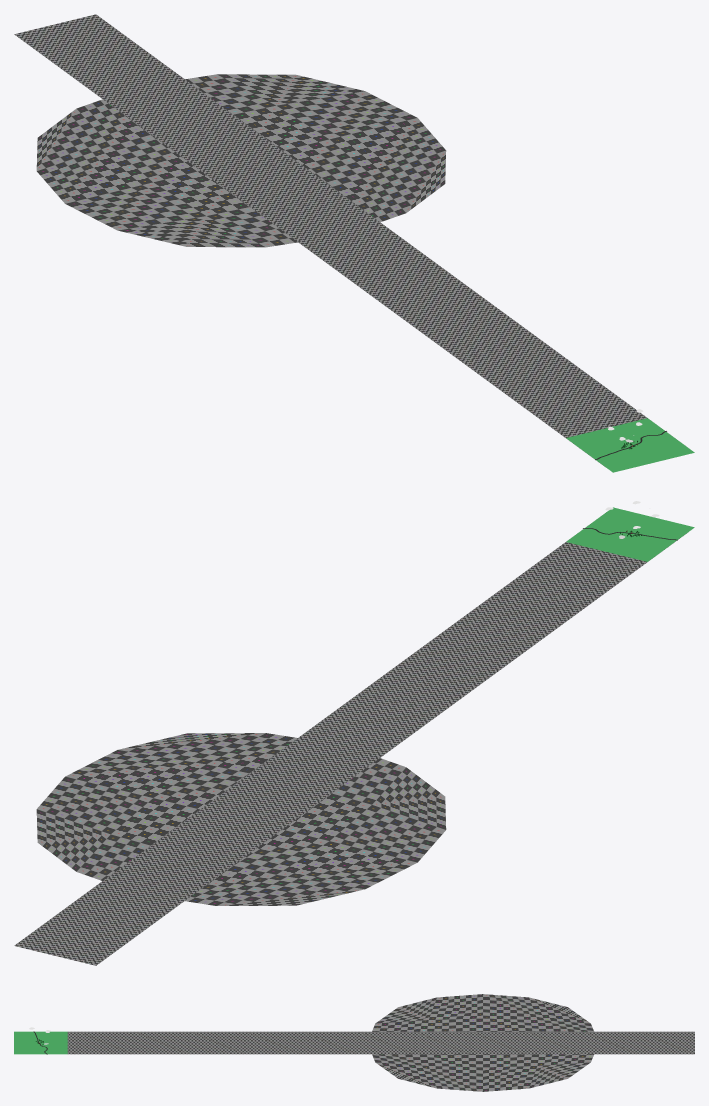
Rendered from 00_game-area-size.glb.
3 views of the same model, one above another, from view 1: azimuth 30°, elevation 25°; view 2: azimuth 150°, elevation 25°; view 3: azimuth 270°, elevation 25° (orthographic). The views are drawn at different scales.
Parts seen in each view (by area): view 1: couloir, zone.explorable, SOL.001; view 2: couloir, zone.explorable, SOL.001; view 3: couloir, zone.explorable, SOL.001.
Boxes of the visible parts, x1,y1,x2,y2 form: couloir: [14, 14, 647, 467]; zone.explorable: [36, 74, 446, 247]; SOL.001: [566, 418, 694, 472]; couloir: [14, 532, 688, 965]; zone.explorable: [36, 733, 446, 905]; SOL.001: [566, 507, 694, 561]; couloir: [67, 1031, 694, 1054]; zone.explorable: [372, 994, 593, 1091]; SOL.001: [14, 1031, 67, 1054].
Bounding box in the file's own units: 172 × 12.35 × 505.
3 materials, 2 textured.
